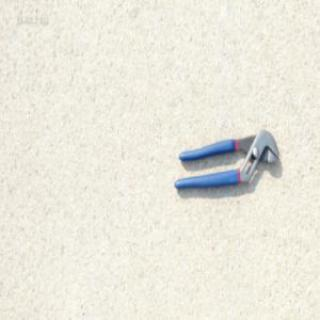Pliertrack_idkeyframe: (172, 126, 279, 190)
